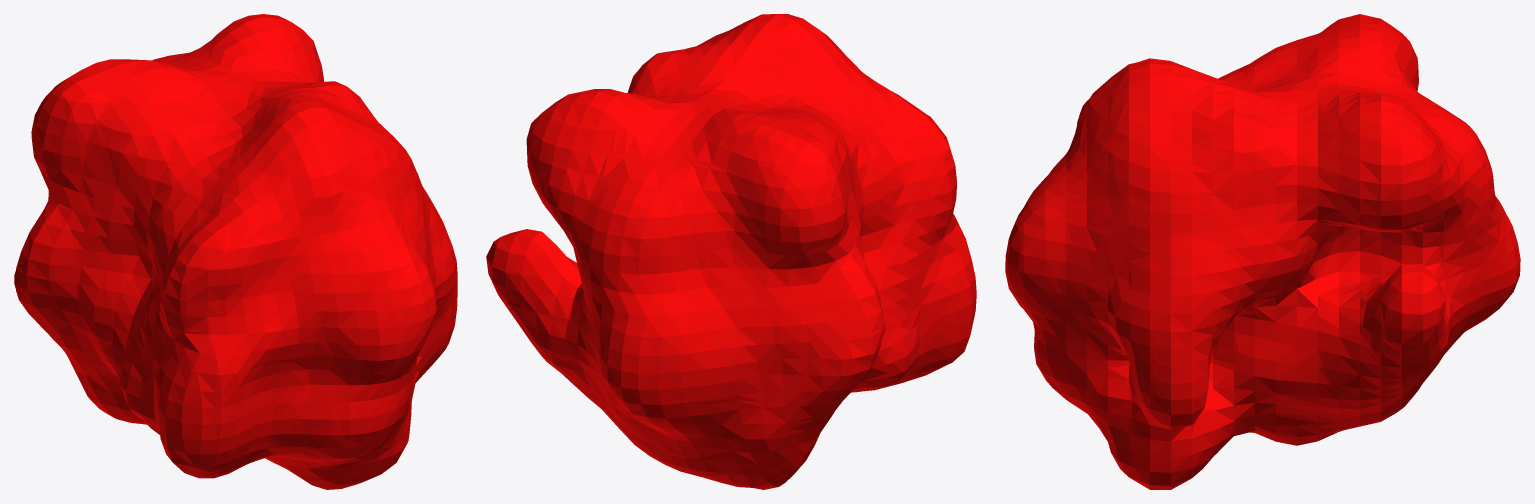
The model's file is apt_coarse.dae.
The picture shows the model from 3 angles, left to right: view 1: azimuth 30°, elevation 25°; view 2: azimuth 150°, elevation 25°; view 3: azimuth 270°, elevation 25°; orthographic projection. The views are drawn at different scales.
Parts seen in each view (by area): view 1: apt; view 2: apt; view 3: apt.
Part boxes in pixels (x1,y1,x2,y2): apt: (14,14,457,489); apt: (486,14,976,489); apt: (1005,14,1520,489).
Bounding box in the file's own units: 50.11 × 53.3 × 62.27.
